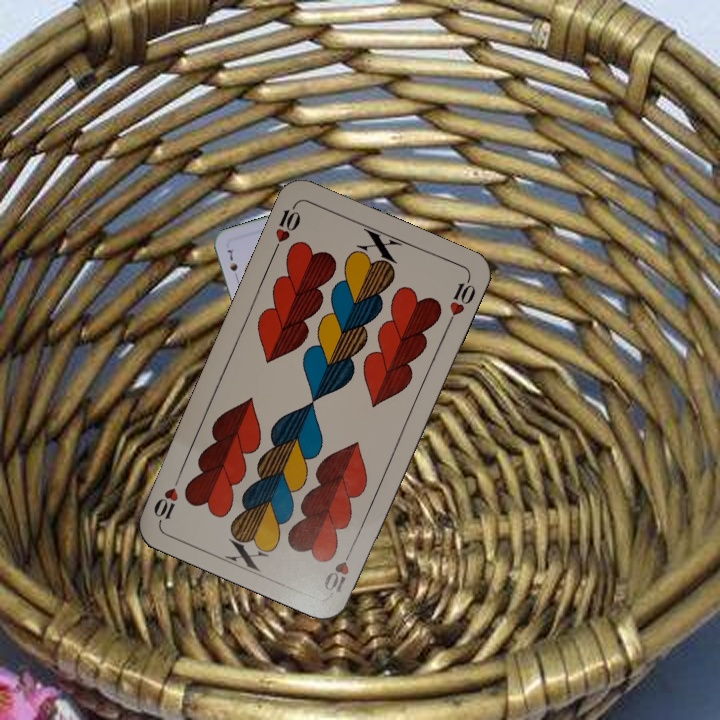H10: (269, 200, 304, 256), (320, 541, 356, 595)
S7: (223, 243, 241, 283)
